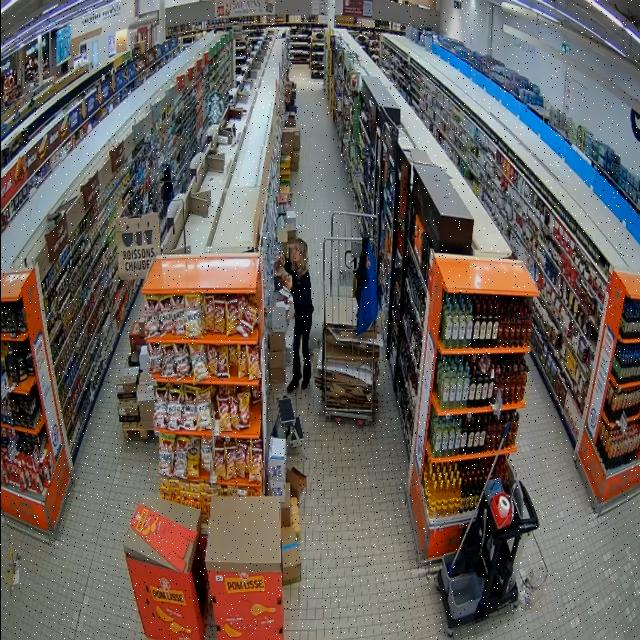article: (279, 274, 290, 286), (274, 258, 283, 272)
hands: (284, 276, 292, 290), (279, 255, 285, 265)
person: (277, 239, 313, 392)
